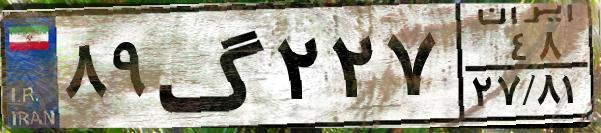1: (560, 70, 590, 125)
2: (270, 28, 330, 110), (330, 28, 385, 110), (470, 70, 495, 125)
4: (508, 27, 537, 80)
7: (385, 28, 445, 110), (495, 70, 520, 125)
8: (57, 26, 110, 100), (537, 27, 568, 80), (535, 70, 560, 125)
9: (110, 28, 156, 98)
گ: (156, 12, 270, 120)
